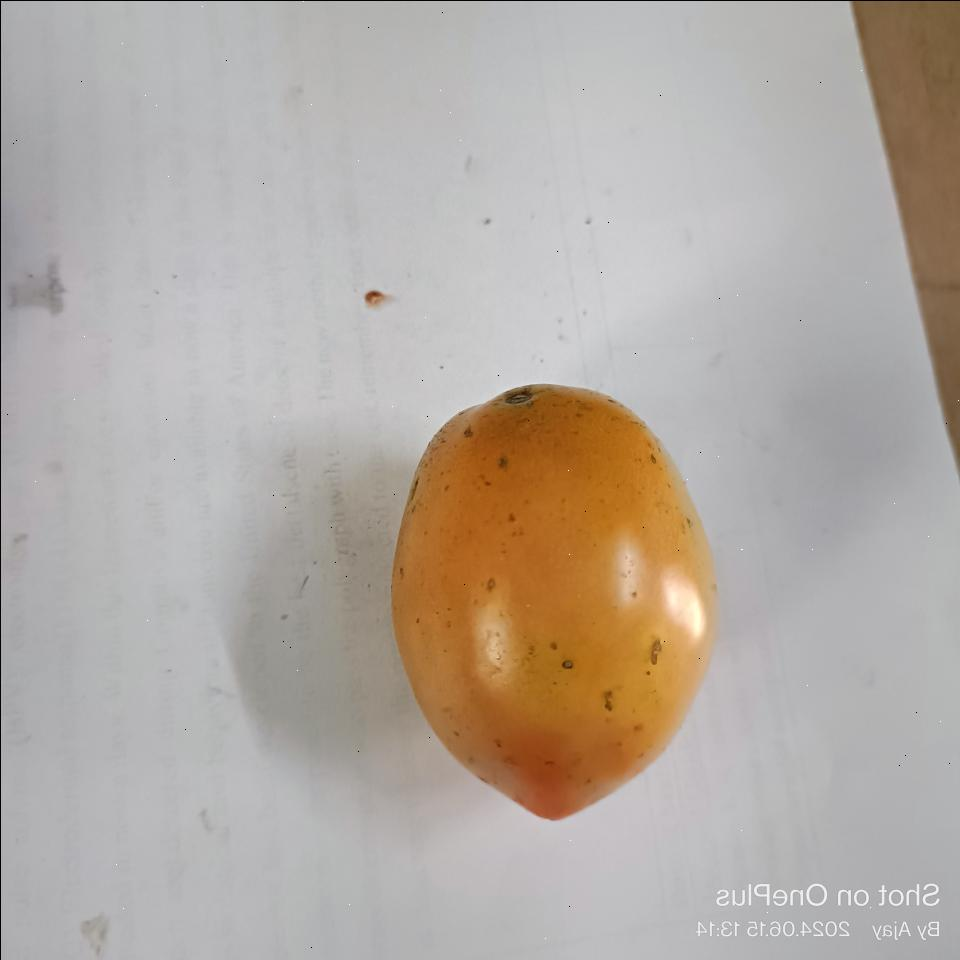Bacterial_Spot: (497, 380, 537, 408)
